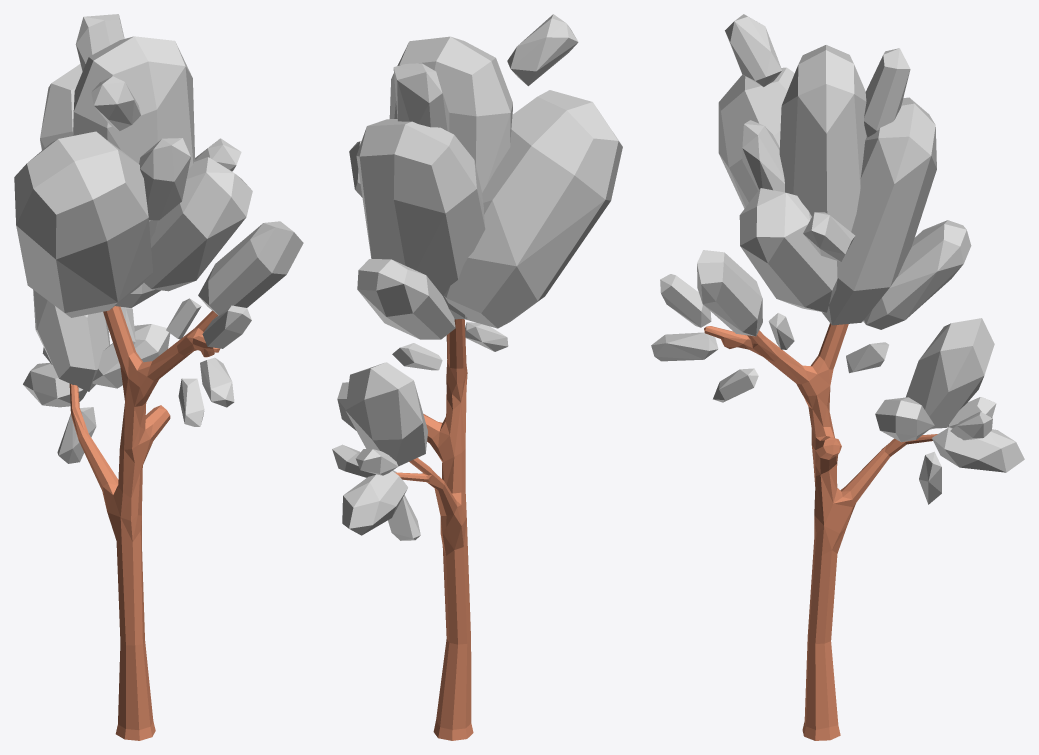
File: tree_1.fbx
The picture shows the model from 3 angles, left to right: view 1: azimuth 30°, elevation 25°; view 2: azimuth 150°, elevation 25°; view 3: azimuth 270°, elevation 25°; orthographic projection. The views are drawn at different scales.
Parts seen in each view (by area): view 1: tree_1; view 2: tree_1; view 3: tree_1.
Boxes of the visible parts, left/top/right/bottom form: tree_1: left=14, top=14, right=303, bottom=740; tree_1: left=332, top=14, right=622, bottom=740; tree_1: left=651, top=14, right=1024, bottom=740.
Bounding box in the file's own units: 392 × 1079 × 532.
